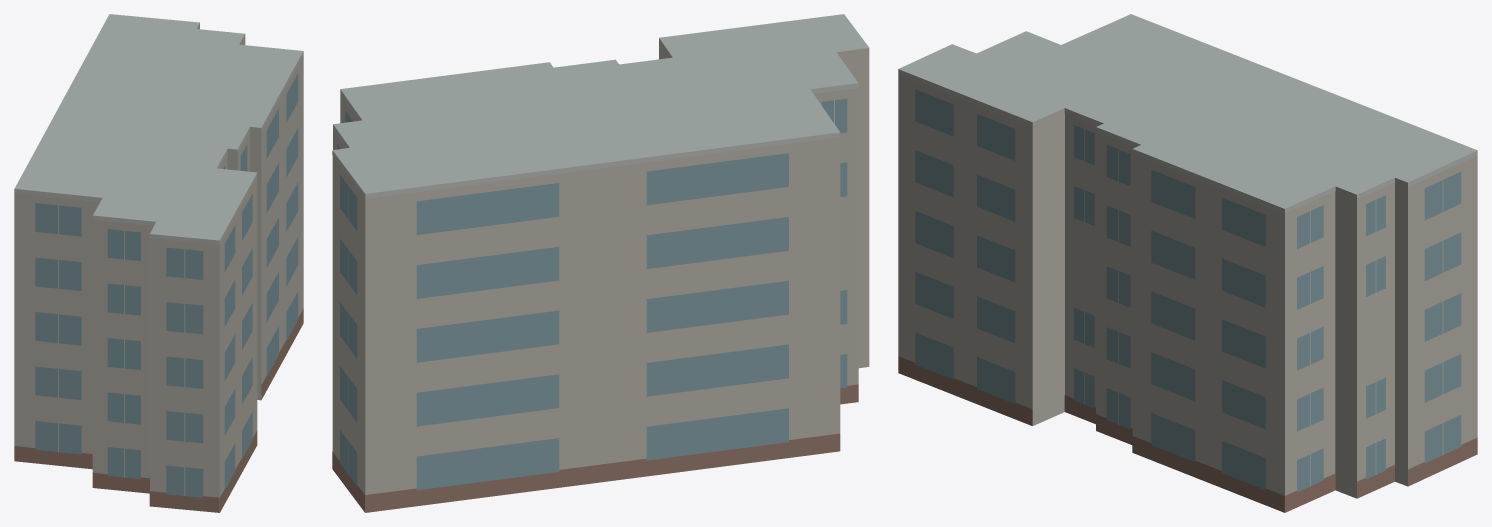
The model's file is survey-upis-32954200.glb.
3 renders of one model, left to right at view 1: azimuth 30°, elevation 25°; view 2: azimuth 150°, elevation 25°; view 3: azimuth 270°, elevation 25°, orthographic. The views are drawn at different scales.
Parts seen in each view (by area): view 1: survey-upis-32954200.tmp; view 2: survey-upis-32954200.tmp; view 3: survey-upis-32954200.tmp.
Boxes of the visible parts, box(x1,y1,x2,y2) form: survey-upis-32954200.tmp: box(14, 14, 303, 512); survey-upis-32954200.tmp: box(332, 14, 869, 512); survey-upis-32954200.tmp: box(898, 14, 1477, 512).
Bounding box in the file's own units: 20.92 × 15.2 × 26.27.
